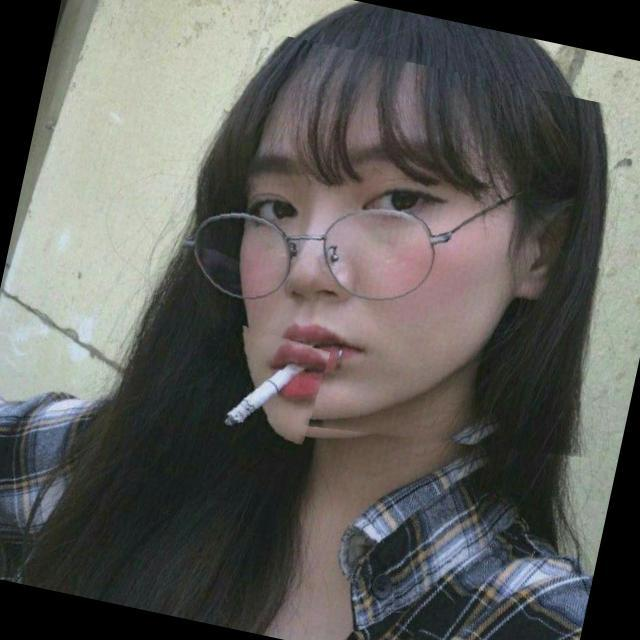cigarette: (204, 322, 332, 467)
